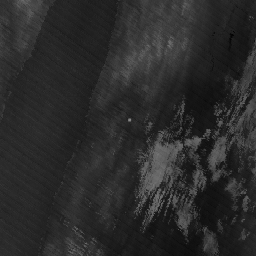Target: (127, 116, 132, 122)
